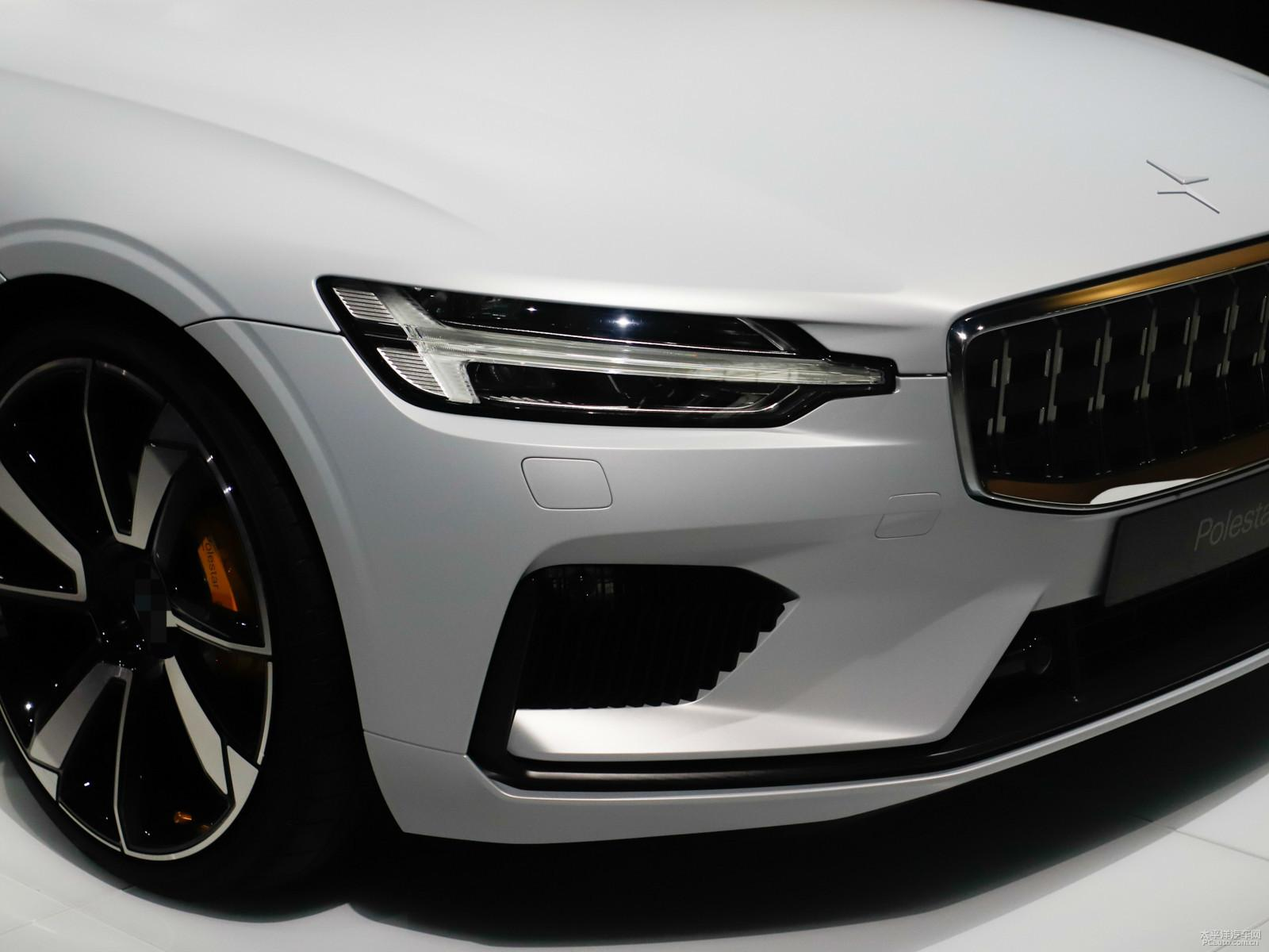Polestar: (1147, 159, 1221, 213)
